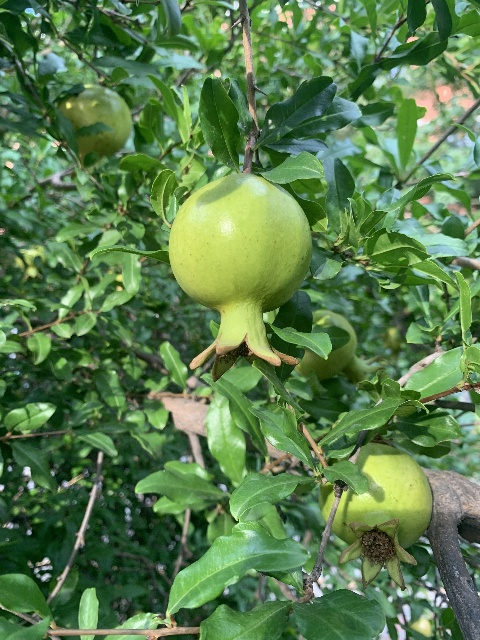mid-growth: (168, 172, 312, 381), (319, 443, 433, 591), (294, 309, 384, 385), (57, 84, 131, 166)
